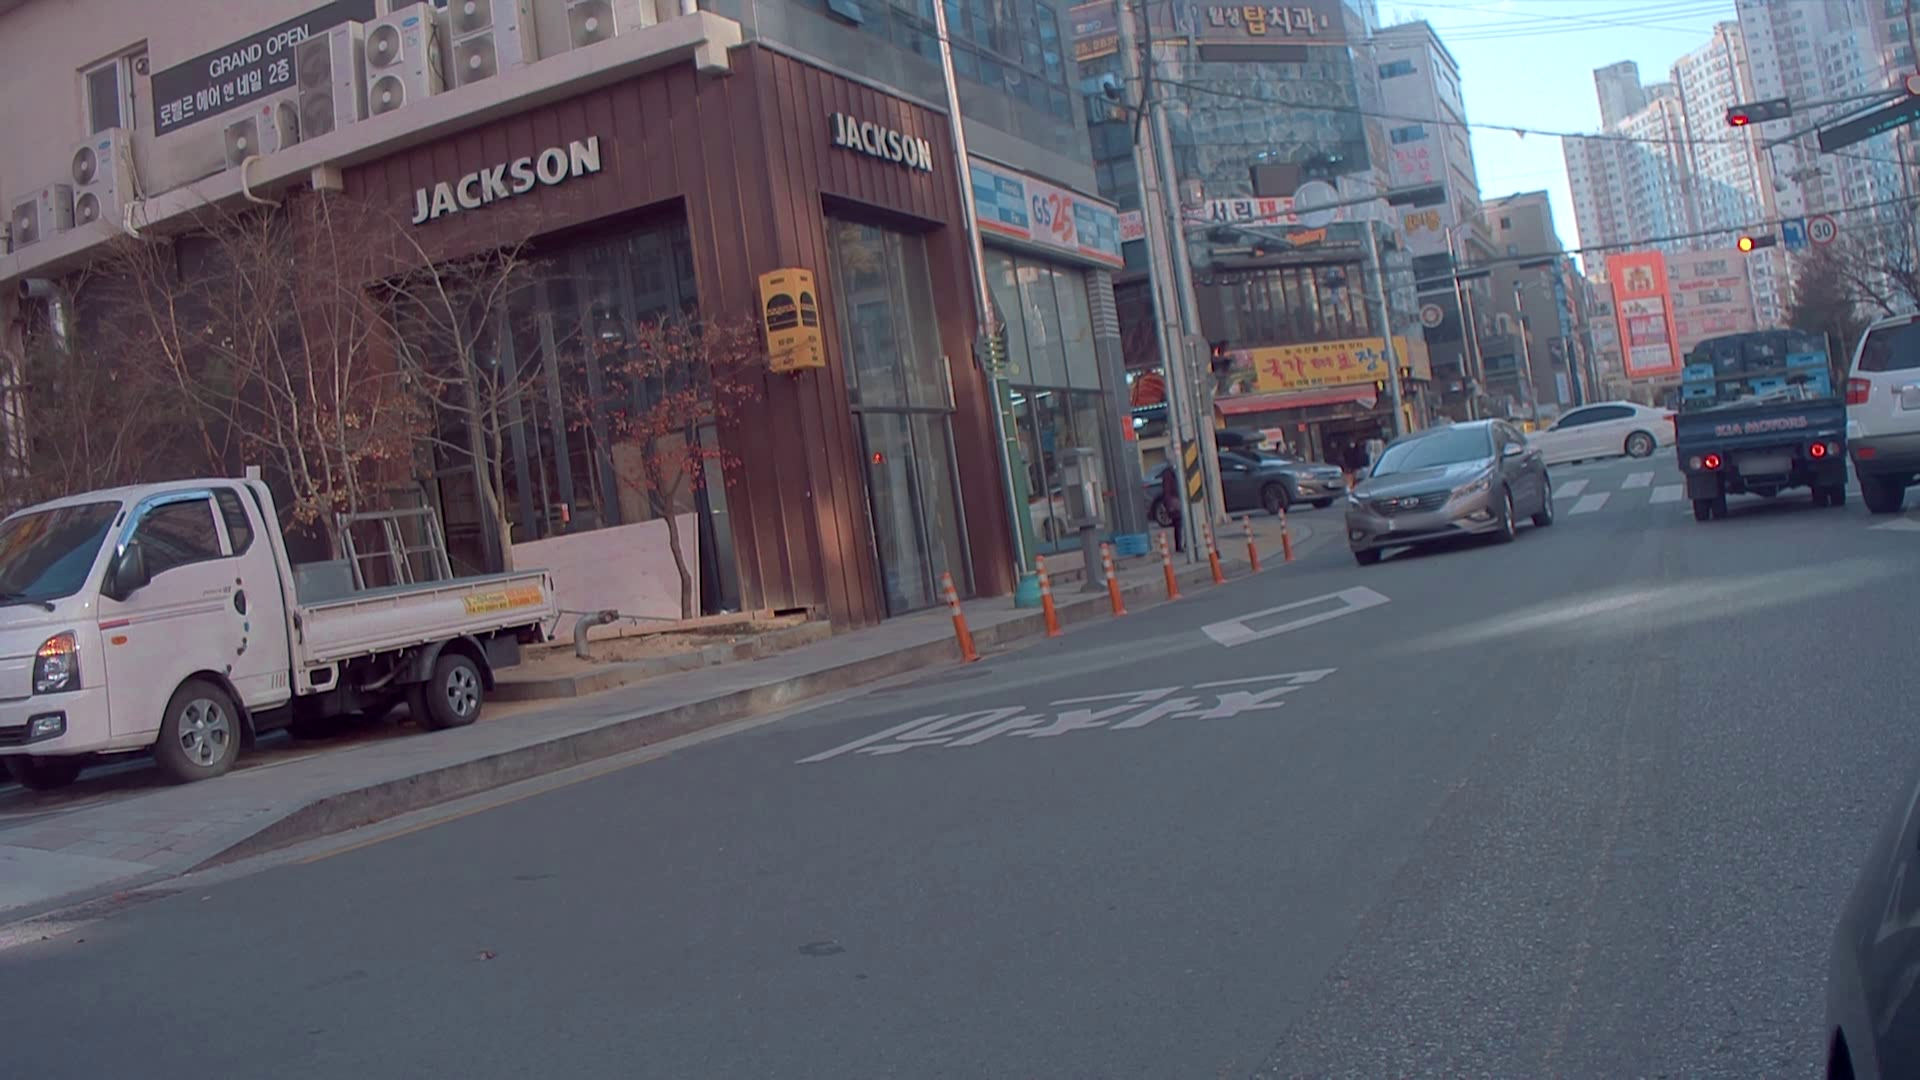trafficLight: (1724, 94, 1791, 127), (1731, 233, 1778, 255)
trafficSignCircle: (1809, 215, 1840, 247)
trafficSignRTG: (1787, 218, 1804, 249)
